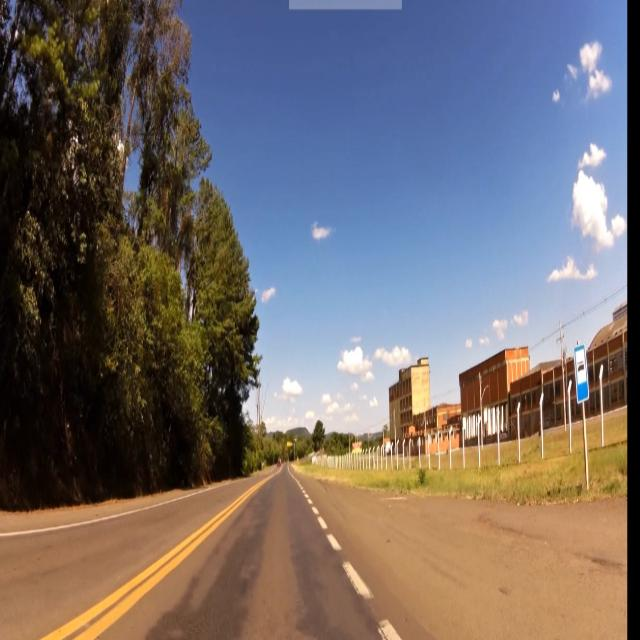S-14: (574, 344, 589, 407)
